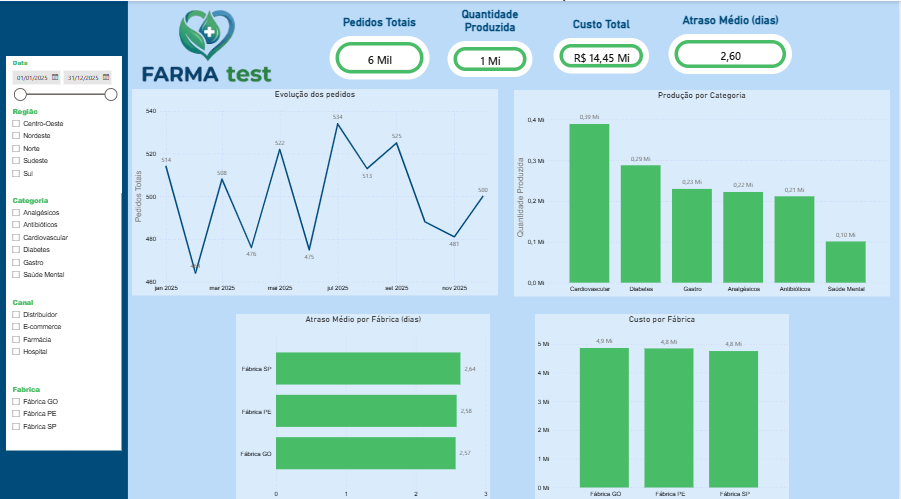

The dashboard page shown, as its layout file describes it:
{"tool":"powerbi","page":{"name":"Performance Operacional","canvas":[1800,1000],"ordinal":2},"visuals":[{"type":"shape","box":[0,0,258,1000],"z":0},{"type":"cardVisual","title":" Pedidos Totais","fields":{"Data":["ABC_Produtos.Pedidos Totais"]},"box":[655.8,27.5,210,134],"z":1000},{"type":"cardVisual","title":"Quantidade Produzida","fields":{"Data":["ABC_Produtos.Quantidade Produzida"]},"box":[891.7,11.7,180,145],"z":2000},{"type":"cardVisual","title":"Custo Total","fields":{"Data":["ABC_Produtos.Custo Total"]},"box":[1103.3,31.7,201.7,118.3],"z":3000},{"type":"cardVisual","title":"Atraso Médio (dias)","fields":{"Data":["ABC_Produtos.Atraso Médio"]},"box":[1333.3,23.3,257.5,127.5],"z":4000},{"type":"slicer","fields":{"Values":["Farmaceutica.Data"]},"box":[14,110,231,95],"z":5000},{"type":"slicer","fields":{"Values":["Farmaceutica.Regiao"]},"box":[14,206,232,178],"z":6000},{"type":"slicer","fields":{"Values":["Farmaceutica.Fabrica"]},"box":[14,762,231,137],"z":7000},{"type":"slicer","fields":{"Values":["Farmaceutica.Canal"]},"box":[14,588,231,174],"z":8000},{"type":"slicer","fields":{"Values":["Farmaceutica.Categoria"]},"box":[14,384,231,204],"z":9000},{"type":"image","box":[266.7,0,292,169],"z":10000},{"type":"lineChart","title":"Evolução dos pedidos","fields":{"Category":["Farmaceutica.Data.Variation.Hierarquia de datas.Ano","Farmaceutica.Data.Variation.Hierarquia de datas.Mês"],"Y":["ABC_Produtos.Pedidos Totais"]},"box":[266.7,176.7,731.7,413.3],"z":11000},{"type":"columnChart","title":"Produção por Categoria","fields":{"Category":["Farmaceutica.Categoria"],"Y":["Sum(Farmaceutica.Quantidade)"]},"box":[1030,178.3,751.7,413.3],"z":12000},{"type":"clusteredBarChart","title":"Atraso Médio por Fábrica (dias)","fields":{"Y":["ABC_Produtos.Atraso Médio"],"Category":["Farmaceutica.Fabrica"]},"box":[473.3,625,508.3,375],"z":13000},{"type":"clusteredColumnChart","title":"Custo por Fábrica ","fields":{"Category":["Farmaceutica.Fabrica"],"Y":["Sum(Farmaceutica.Custo_Total)"]},"box":[1071.7,625,508.3,375],"z":14000}]}

Visuals, with their boxes in screenshot pixels (x1, y1, x2, y2), scaled from the page's 1800x1000 canvas onto the 901x499 screenshot:
shape: BBox(0, 0, 129, 498)
" Pedidos Totais" cardVisual: BBox(328, 14, 433, 81)
"Quantidade Produzida" cardVisual: BBox(446, 6, 536, 78)
"Custo Total" cardVisual: BBox(552, 16, 653, 75)
"Atraso Médio (dias)" cardVisual: BBox(667, 12, 796, 75)
slicer - Farmaceutica.Data: BBox(7, 55, 123, 102)
slicer - Farmaceutica.Regiao: BBox(7, 103, 123, 192)
slicer - Farmaceutica.Fabrica: BBox(7, 380, 123, 449)
slicer - Farmaceutica.Canal: BBox(7, 293, 123, 380)
slicer - Farmaceutica.Categoria: BBox(7, 192, 123, 293)
image: BBox(133, 0, 280, 84)
"Evolução dos pedidos" lineChart: BBox(133, 88, 500, 294)
"Produção por Categoria" columnChart: BBox(516, 89, 892, 295)
"Atraso Médio por Fábrica (dias)" clusteredBarChart: BBox(237, 312, 491, 498)
"Custo por Fábrica " clusteredColumnChart: BBox(536, 312, 791, 498)
